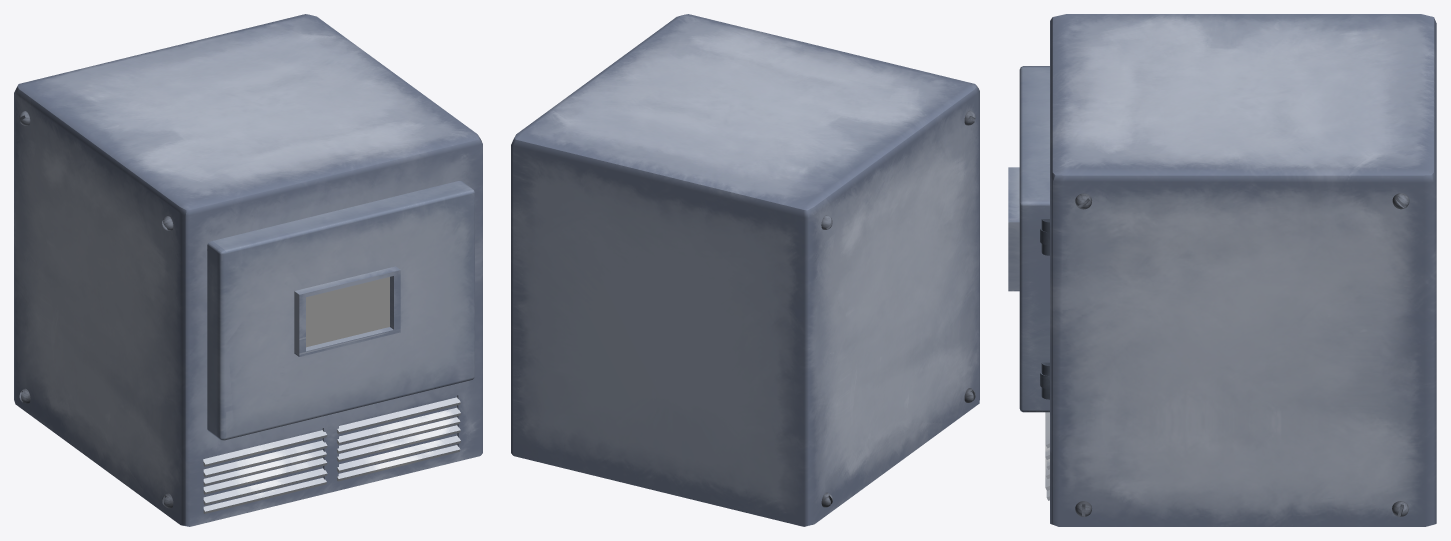
The model's file is FreezerModel.fbx.
3 views of the same model, side by side, from view 1: azimuth 30°, elevation 25°; view 2: azimuth 150°, elevation 25°; view 3: azimuth 270°, elevation 25° (orthographic). The views are drawn at different scales.
Visible parts, largest first — view 1: polySurface8, Door; view 2: polySurface8; view 3: polySurface8, Door.
Part boxes in pixels (x1=…): polySurface8: x1=14, y1=14, x2=482, y2=526; Door: x1=207, y1=181, x2=474, y2=440; polySurface8: x1=511, y1=14, x2=979, y2=526; polySurface8: x1=1045, y1=14, x2=1436, y2=526; Door: x1=1008, y1=66, x2=1049, y2=412.
Bounding box in the file's own units: 28.67 × 27.79 × 30.49.
7 materials, 6 textured.
